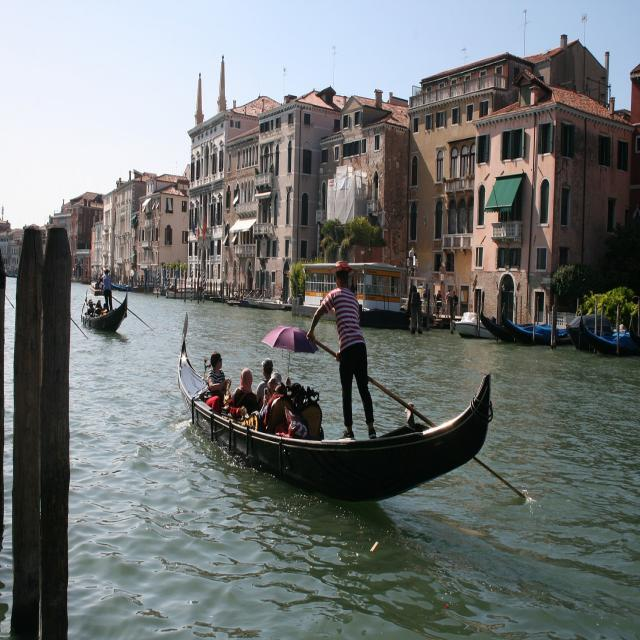boat: (158, 287, 512, 538), (77, 269, 135, 347)
